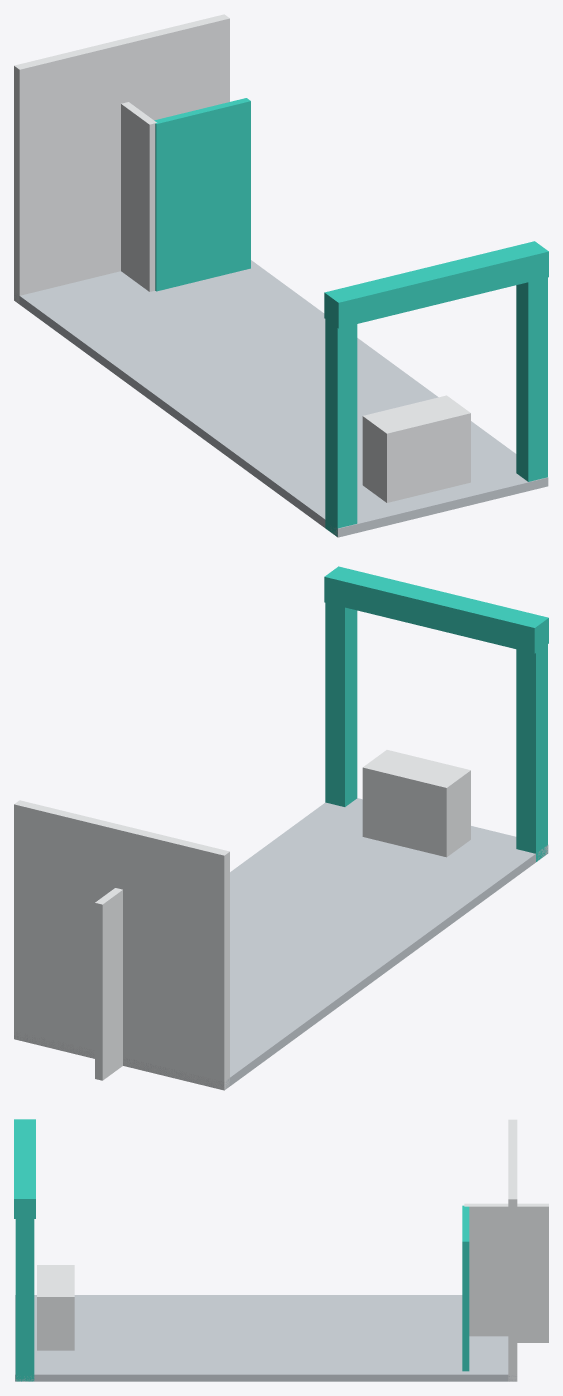
The picture shows the model from 3 angles, top to bottom: view 1: azimuth 30°, elevation 25°; view 2: azimuth 150°, elevation 25°; view 3: azimuth 270°, elevation 25°; orthographic projection. The views are drawn at different scales.
Parts seen in each view (by area): view 1: Exhibition Booth Concept; view 2: Exhibition Booth Concept; view 3: Exhibition Booth Concept.
Part boxes in pixels (<box>): Exhibition Booth Concept: <box>14,14,548,537</box>; Exhibition Booth Concept: <box>14,566,548,1090</box>; Exhibition Booth Concept: <box>14,1119,548,1381</box>.
Bounding box in the file's own units: 3 × 3.2 × 8.52.
